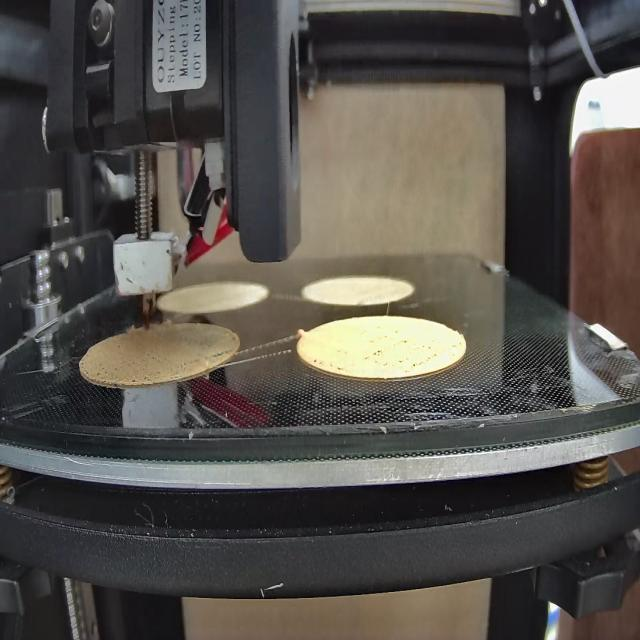under_extrusion: (362, 323, 443, 374), (91, 350, 166, 384), (182, 344, 235, 372), (307, 348, 345, 377)
